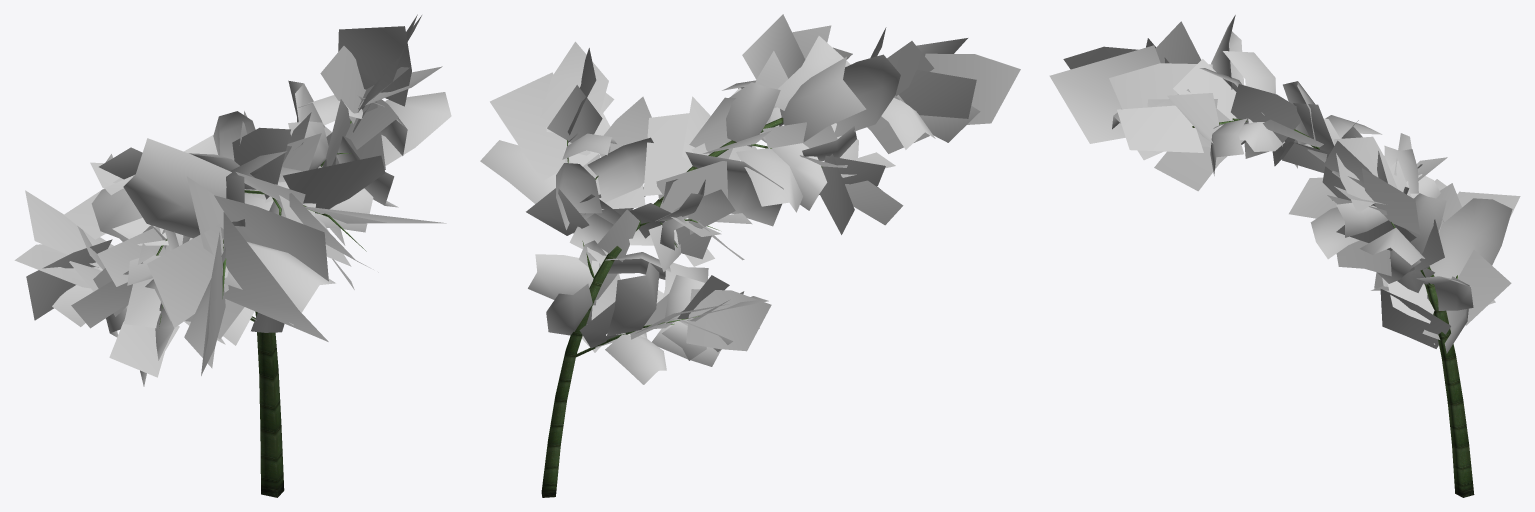
The model's file is JiaYeSi_ZhuZi_4.FBX.
3 views of the same model, side by side, from view 1: azimuth 30°, elevation 25°; view 2: azimuth 150°, elevation 25°; view 3: azimuth 270°, elevation 25° (orthographic). The views are drawn at different scales.
Parts seen in each view (by area): view 1: JiaYeSi_ZhuZi_4b, JiaYeSi_ZhuZi_4a; view 2: JiaYeSi_ZhuZi_4b, JiaYeSi_ZhuZi_4a; view 3: JiaYeSi_ZhuZi_4b, JiaYeSi_ZhuZi_4a.
Part boxes in pixels (<box>): JiaYeSi_ZhuZi_4b: <box>14,14,451,386</box>; JiaYeSi_ZhuZi_4a: <box>156,121,366,497</box>; JiaYeSi_ZhuZi_4b: <box>480,14,1020,384</box>; JiaYeSi_ZhuZi_4a: <box>541,117,822,497</box>; JiaYeSi_ZhuZi_4b: <box>1049,15,1520,353</box>; JiaYeSi_ZhuZi_4a: <box>1192,118,1474,497</box>.
Bounding box in the file's own units: 471 × 508 × 568.
